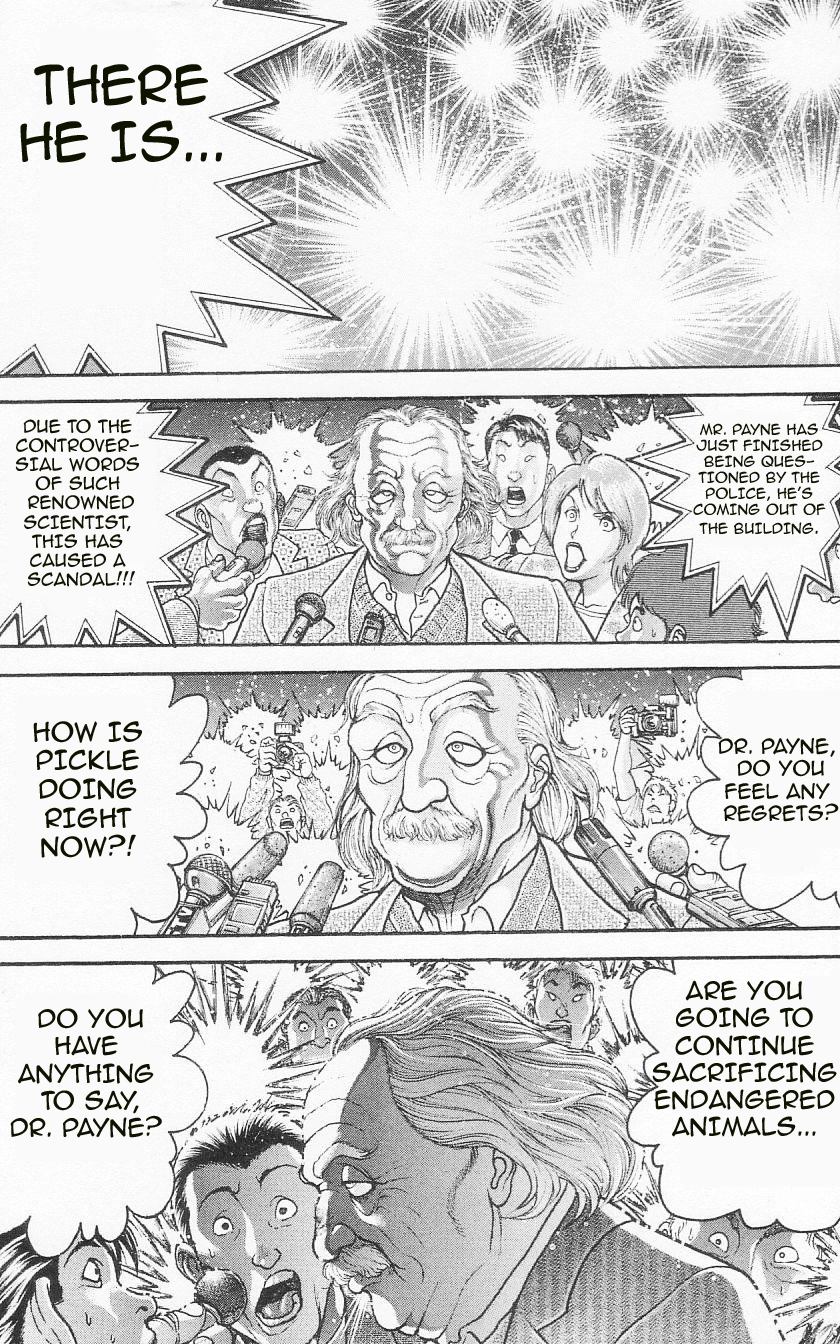Baloon: (2, 4, 341, 372), (1, 967, 208, 1265), (621, 959, 840, 1227), (10, 672, 212, 943), (1, 398, 225, 638), (625, 400, 840, 634), (688, 667, 839, 912)
Vignetta: (1, 953, 833, 1344), (6, 1, 837, 376), (1, 663, 840, 939), (1, 390, 840, 647)
